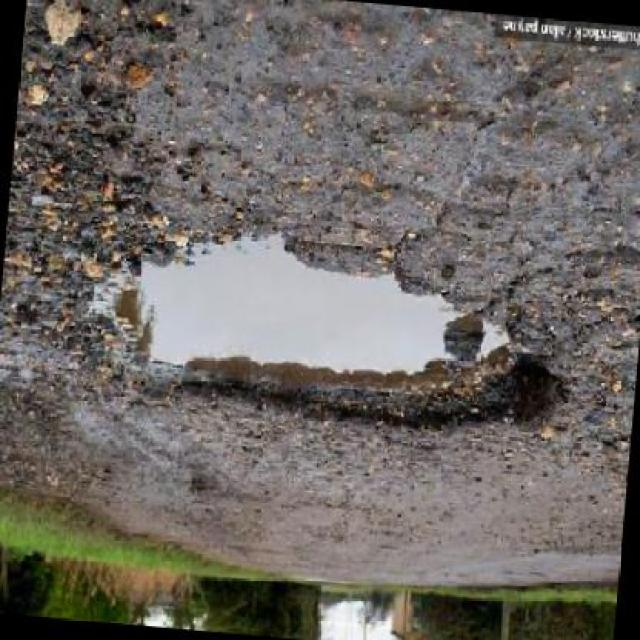pothole1: (53, 209, 579, 453)
